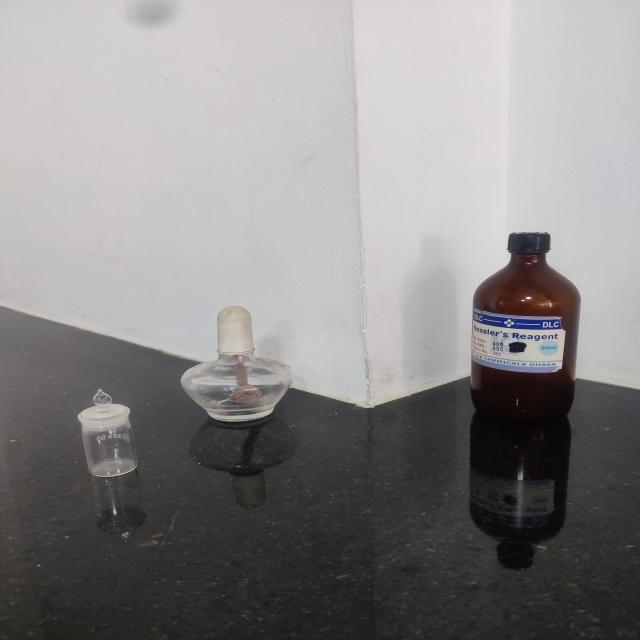Nessler_Reagent_Bottle: (427, 196, 625, 447)
Spirit_Lamp: (165, 286, 326, 452)
Weighing_Bottle: (56, 374, 161, 512)
